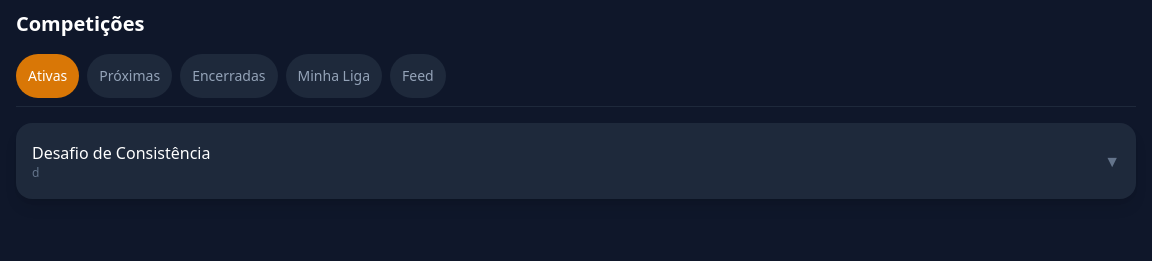
Test: Competicoes › expande uma competição e mostra a posição real (busca sob demanda, nunca antes de clicar)
Click the text "Desafio de Consistência": [121, 153] box [32,141,210,165]
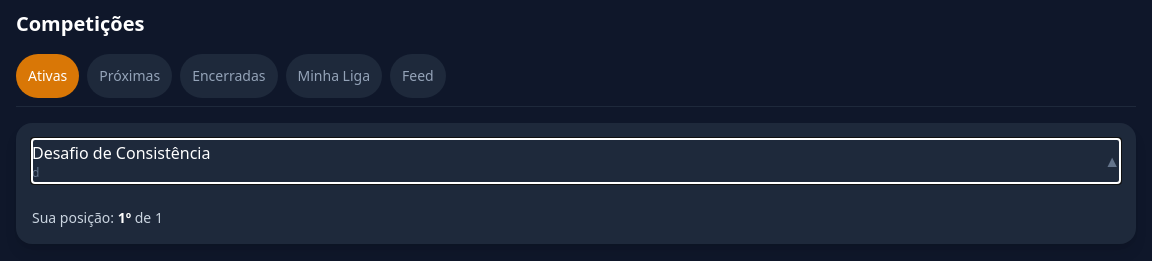
Expected: the text "Sua posição: 1º de 1" is shown, [32,208,163,227]
